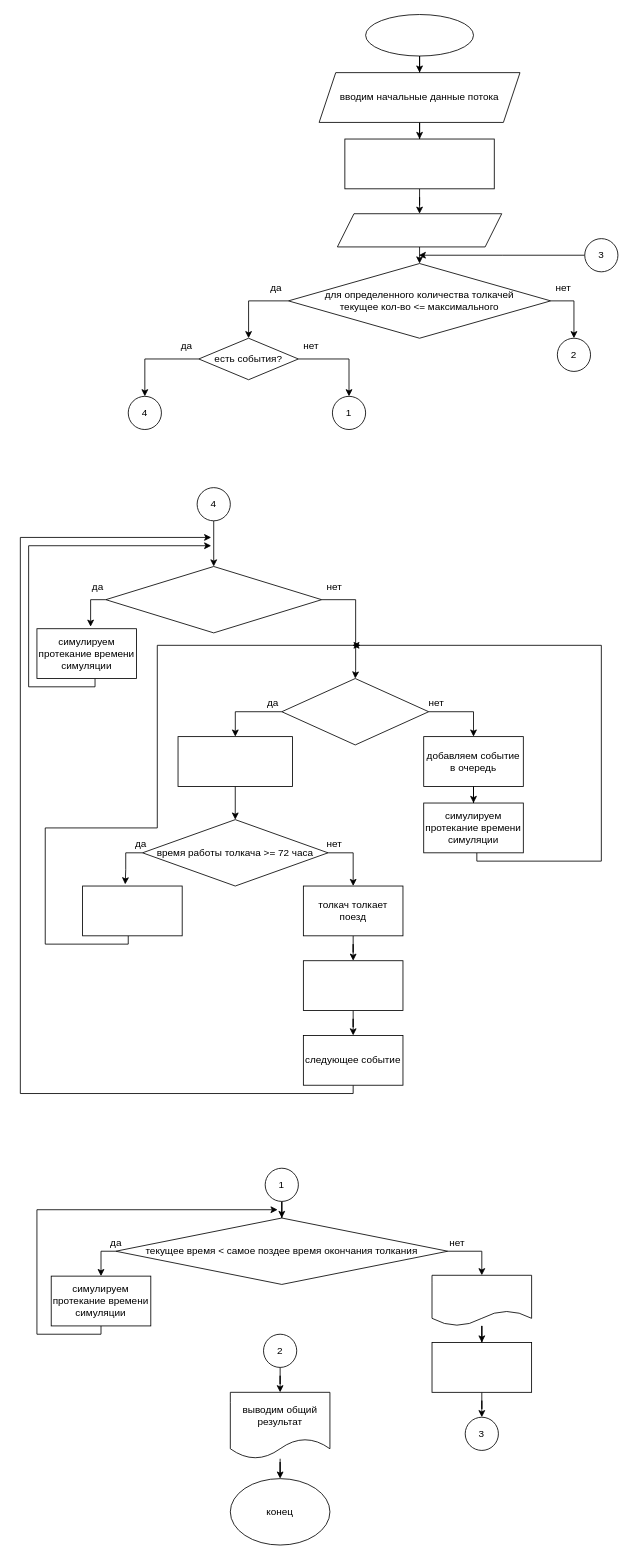
This 632x1560 diagram has some shape labels left out. Here are the shapes that lost their labels. From the top down, the centre of each, then its label:
point 419,35: начало
point 419,163: генерируем случайный пуассоновский поток
point 419,230: вводим начальные данные симуляции
point 213,599: для каждого события текущее время < время события
point 355,711: есть ли свободный толкач
point 235,761: рассчитываем время толкания и время ТО, учитывая износ
point 132,910: отправляем толкач на ТО
point 353,985: убираем поезд из очереди
point 481,1300: выводим результаты для текущего кол-ва толкачей
point 481,1367: следующее кол-во толкачей
